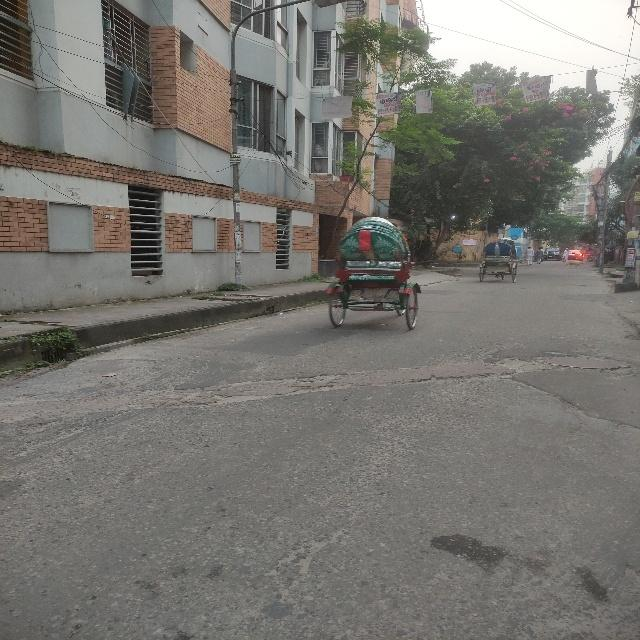Surface Erosion: (54, 316, 626, 474)
